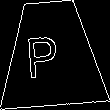P_N: (34, 27, 70, 80)
